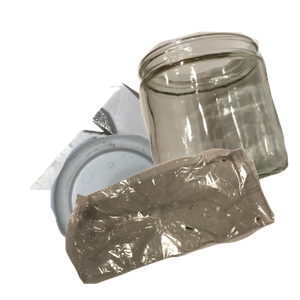glass: (135, 29, 300, 209)
paper: (10, 10, 250, 190)
plastic: (48, 132, 224, 300)
trash: (63, 145, 300, 300)
